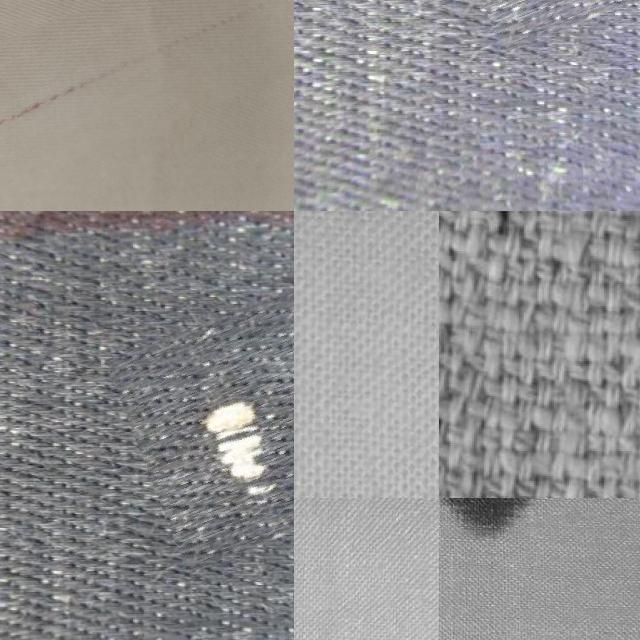Hole: (439, 497, 572, 561)
Thread_other: (122, 296, 294, 556)
